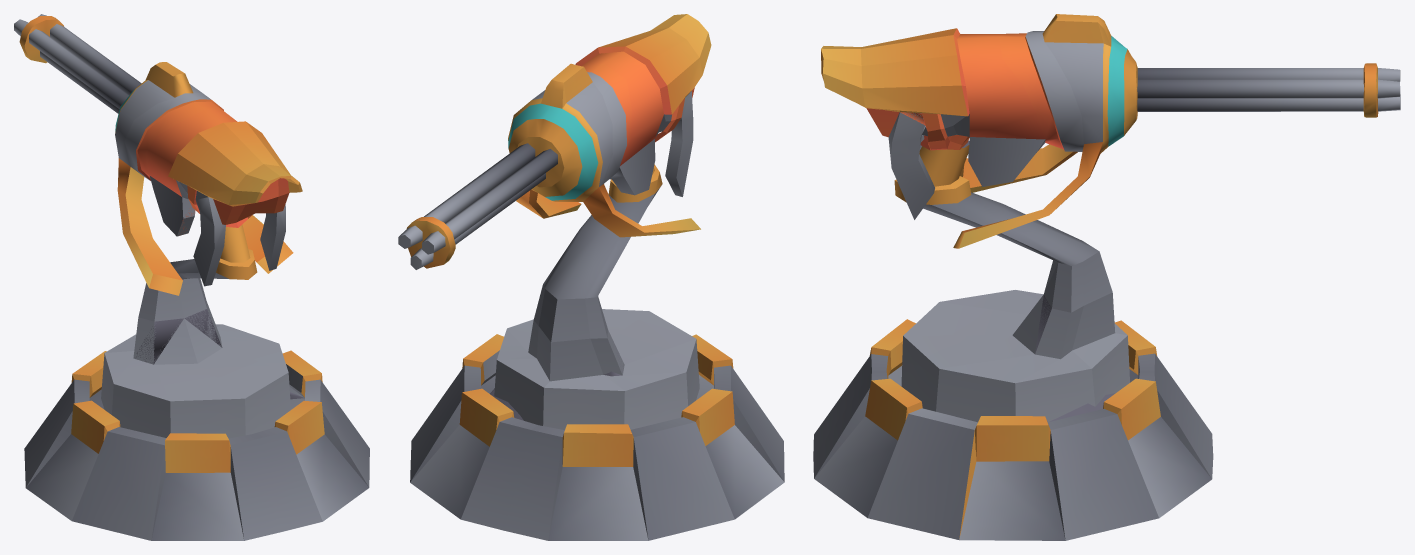
The model's file is Breakable_Gun_01.fbx.
3 renders of one model, left to right at view 1: azimuth 30°, elevation 25°; view 2: azimuth 150°, elevation 25°; view 3: azimuth 270°, elevation 25°, orthographic. The views are drawn at different scales.
Visible parts, largest first — view 1: polySurface230, polySurface423, polySurface232, polySurface410, polySurface421, polySurface422, polySurface412, polySurface415, polySurface227, polySurface416, polySurface420, polySurface413 (+1 smaller); view 2: polySurface232, polySurface230, polySurface421, polySurface410, polySurface423, polySurface231, polySurface422, polySurface412, polySurface415, polySurface420, polySurface413, polySurface227; view 3: polySurface232, polySurface230, polySurface423, polySurface421, polySurface410, polySurface422, polySurface231, polySurface416, polySurface227, polySurface413, polySurface420, polySurface412.
Boxes of the visible parts, bbox=[...] form: polySurface230: bbox=[24, 310, 369, 540]; polySurface423: bbox=[168, 121, 302, 227]; polySurface232: bbox=[71, 278, 322, 399]; polySurface410: bbox=[14, 14, 141, 113]; polySurface421: bbox=[115, 80, 223, 180]; polySurface422: bbox=[147, 109, 237, 236]; polySurface412: bbox=[117, 158, 182, 295]; polySurface415: bbox=[193, 197, 225, 286]; polySurface227: bbox=[216, 224, 257, 279]; polySurface416: bbox=[260, 204, 285, 270]; polySurface420: bbox=[145, 62, 193, 97]; polySurface413: bbox=[242, 215, 293, 273]; polySurface232: bbox=[410, 284, 648, 540]; polySurface230: bbox=[490, 309, 784, 540]; polySurface421: bbox=[508, 63, 631, 201]; polySurface410: bbox=[398, 143, 557, 269]; polySurface423: bbox=[575, 14, 711, 142]; polySurface231: bbox=[543, 185, 661, 299]; polySurface422: bbox=[581, 51, 663, 195]; polySurface412: bbox=[583, 184, 700, 237]; polySurface415: bbox=[665, 91, 693, 196]; polySurface420: bbox=[541, 63, 592, 108]; polySurface413: bbox=[516, 189, 581, 218]; polySurface227: bbox=[608, 164, 662, 202]; polySurface232: bbox=[959, 251, 1213, 540]; polySurface230: bbox=[813, 290, 1114, 539]; polySurface423: bbox=[821, 28, 969, 150]; polySurface421: bbox=[999, 31, 1137, 153]; polySurface410: bbox=[1137, 63, 1400, 117]; polySurface422: bbox=[957, 34, 1045, 186]; polySurface231: bbox=[923, 192, 1099, 265]; polySurface416: bbox=[888, 112, 934, 219]; polySurface227: bbox=[894, 140, 971, 204]; polySurface413: bbox=[953, 142, 1102, 248]; polySurface420: bbox=[1042, 14, 1111, 46]; polySurface412: bbox=[960, 144, 1077, 192].
Size of the model in its own units: 147 by 179 by 216.
Materials: 3 (3 with a texture image).
